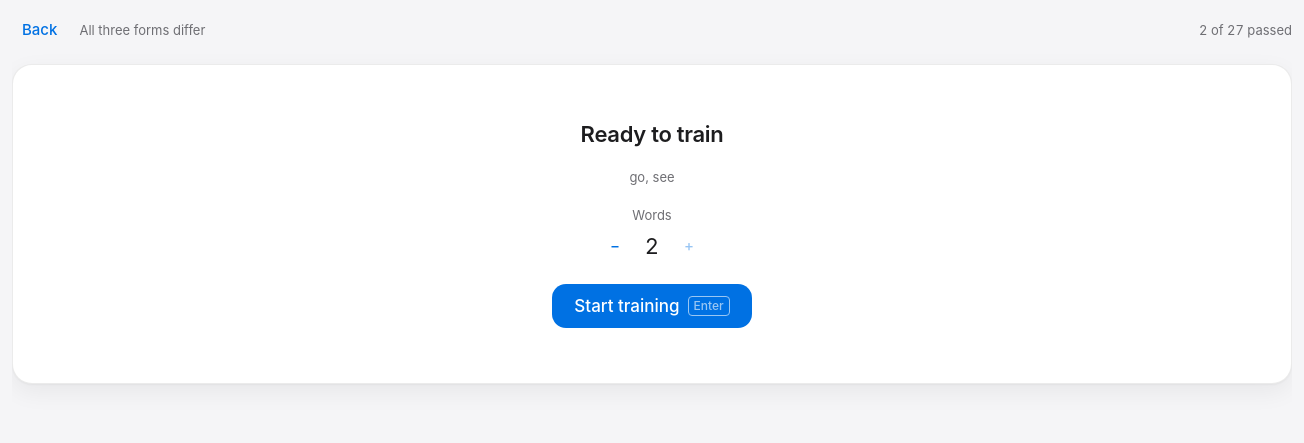
Test case: VerbDrillScreen › marks a wrong pick, shows the right one and the forms, and waits for Next
The width and height of the screenshot is (1304, 443).
Click the button with class "start-train" at (652, 306), box [552,284,752,328]
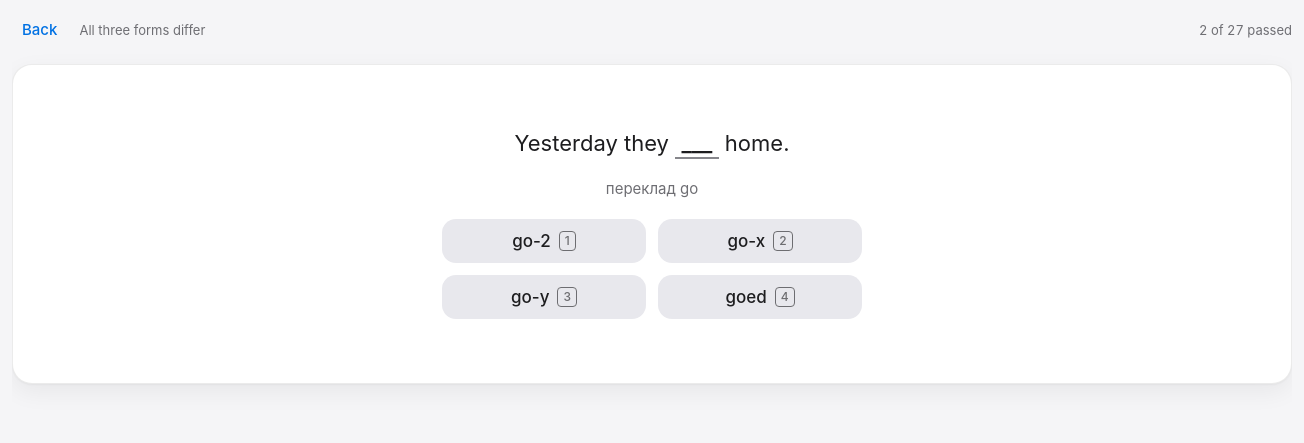
Click the button "goed 4" at (760, 297), box [658,275,862,319]
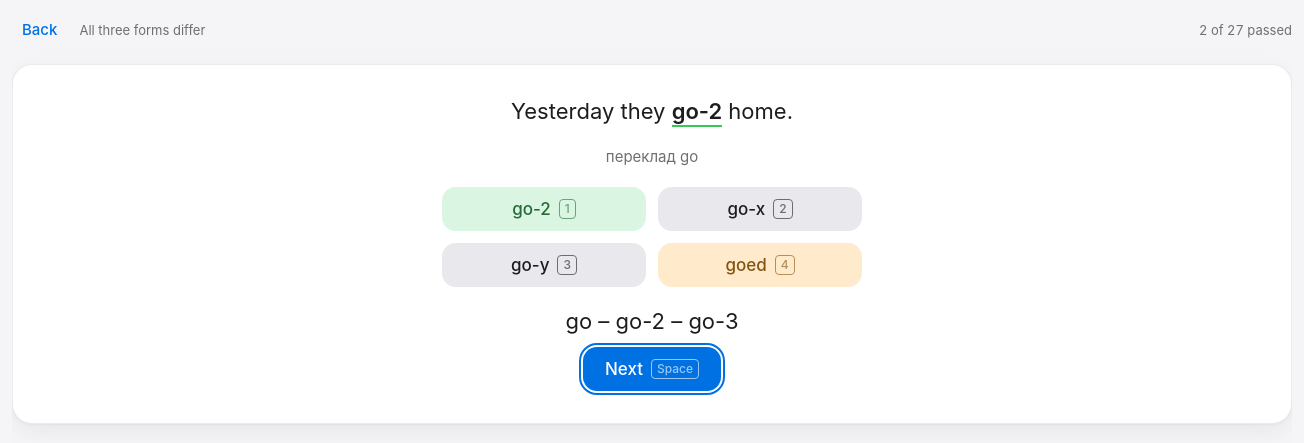
Expected: the text with class "drill-blank" reads "go-2", [672,98,722,124]
Expected: the text "go – go-2 – go-3" is shown, [566,307,739,335]
Click the button with class "drill-next" at (652, 369), box [583,347,721,391]
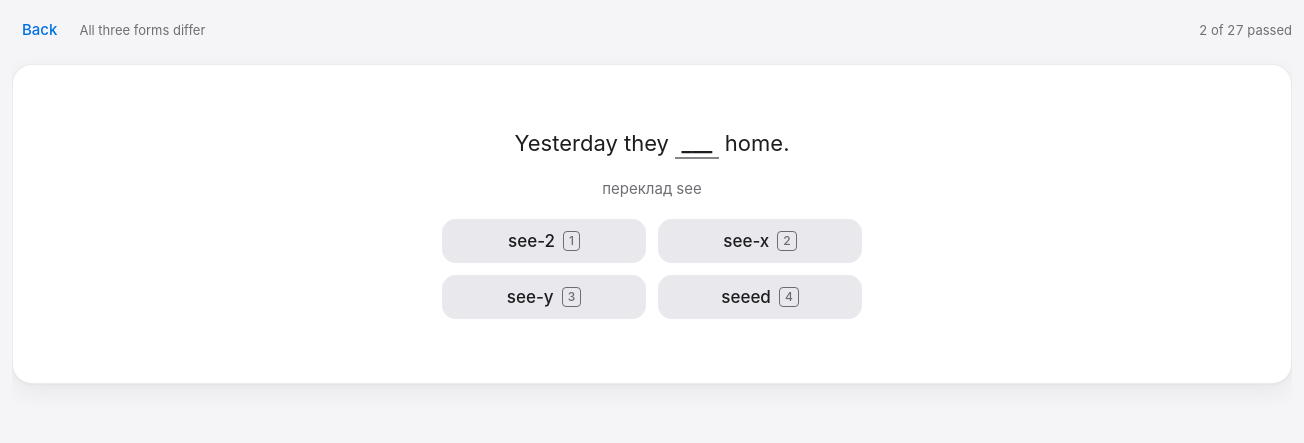
Expected: the text "переклад see" is shown, [602,179,702,199]
